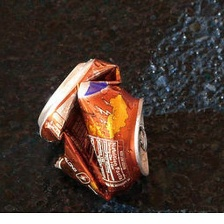can: (34, 54, 161, 203)
